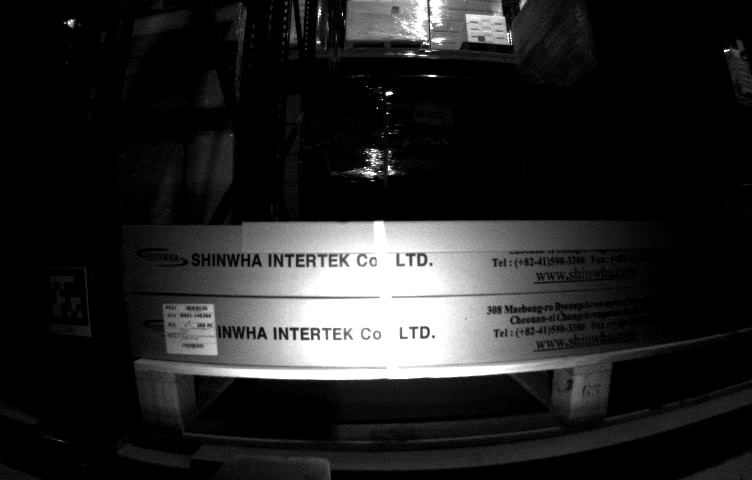True Barcode: (160, 299, 221, 358)
